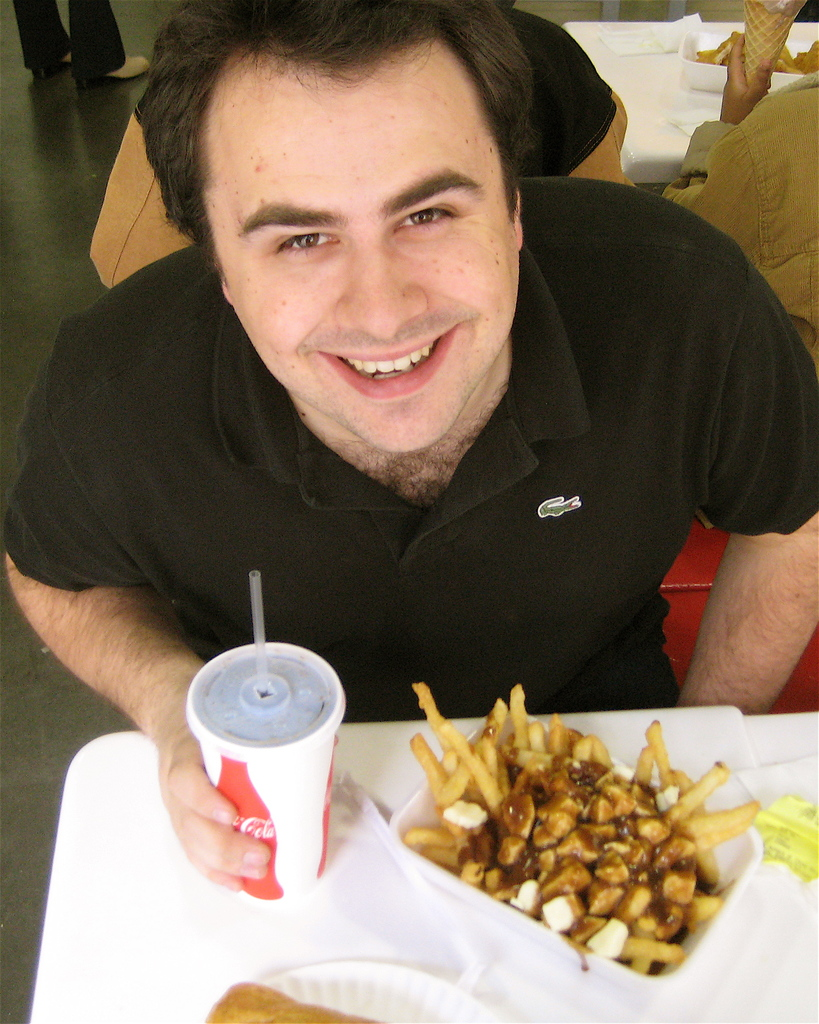French fries: (413, 696, 680, 921)
